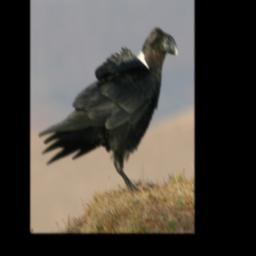Crow: (37, 25, 180, 198)
